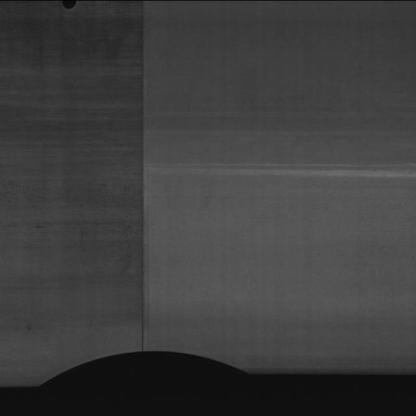crescent_gap: (27, 346, 260, 390)
punching_hole: (61, 0, 82, 10)
welding_line: (127, 0, 152, 354)
